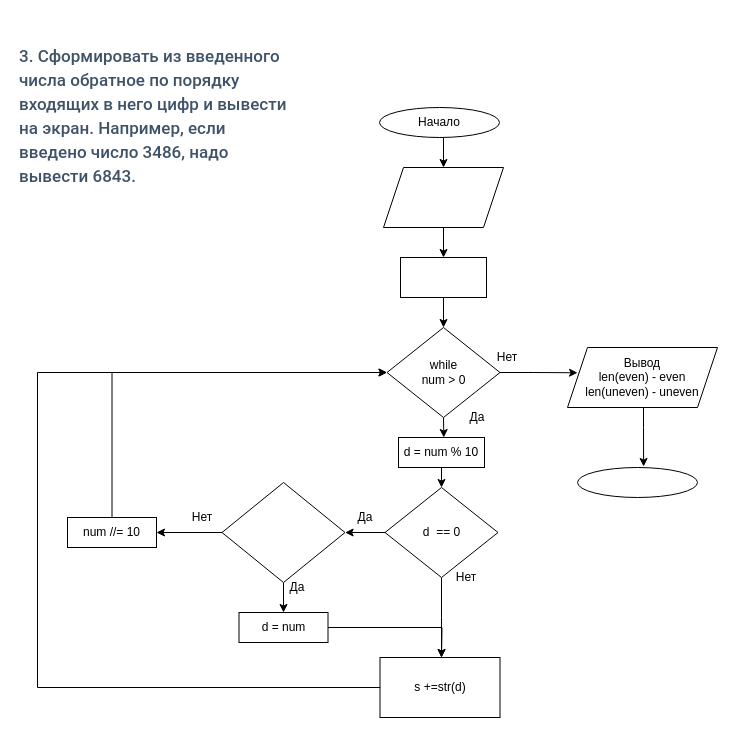
Some shapes in this 735 by 735 pixel diagram are drawn without their labels. Each missing label, with the centre of its shape:
s = "" - пустая строка: (x=443, y=277)
В числе num одна цифра?: (x=283, y=532)
Ввод num: (x=443, y=197)
Конец: (x=637, y=482)
